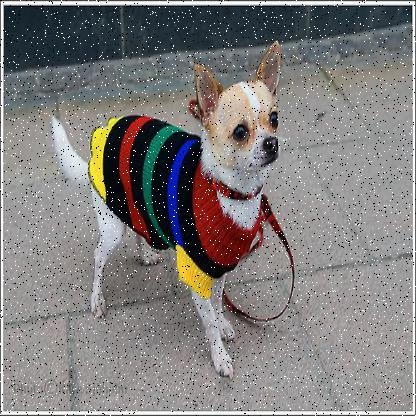dog: (36, 37, 293, 387)
